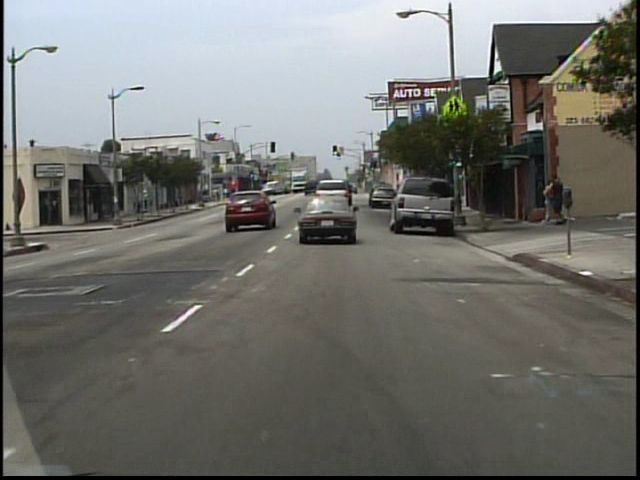person: (551, 174, 565, 224), (542, 178, 556, 225), (142, 188, 152, 214)
